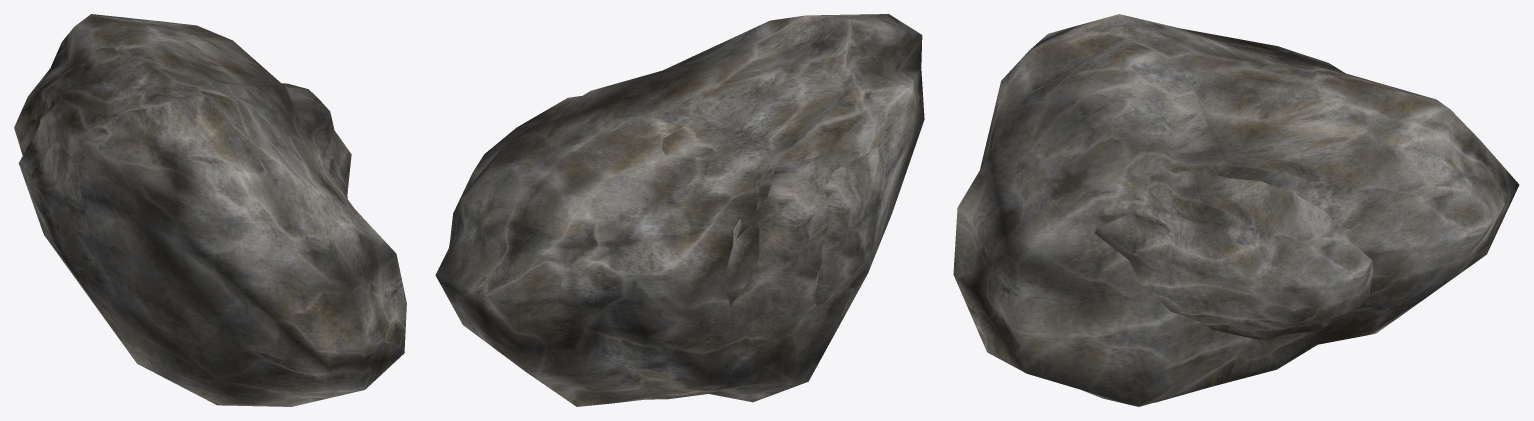
File: Asteroids.fbx
The picture shows the model from 3 angles, left to right: view 1: azimuth 30°, elevation 25°; view 2: azimuth 150°, elevation 25°; view 3: azimuth 270°, elevation 25°; orthographic projection. The views are drawn at different scales.
Parts seen in each view (by area): view 1: Asteroid_2, Asteroid_3, Asteroid_1; view 2: Asteroid_2, Asteroid_3, Asteroid_1; view 3: Asteroid_2, Asteroid_3.
Boxes of the visible parts, x1=… form: Asteroid_2: x1=14, y1=14, x2=406, y2=406; Asteroid_3: x1=26, y1=83, x2=351, y2=272; Asteroid_1: x1=21, y1=47, x2=123, y2=179; Asteroid_2: x1=435, y1=14, x2=924, y2=406; Asteroid_3: x1=449, y1=96, x2=885, y2=305; Asteroid_1: x1=662, y1=122, x2=822, y2=305; Asteroid_2: x1=953, y1=14, x2=1519, y2=406; Asteroid_3: x1=1094, y1=169, x2=1372, y2=340.
Bounding box in the file's own units: 1412 × 1412 × 2164.
